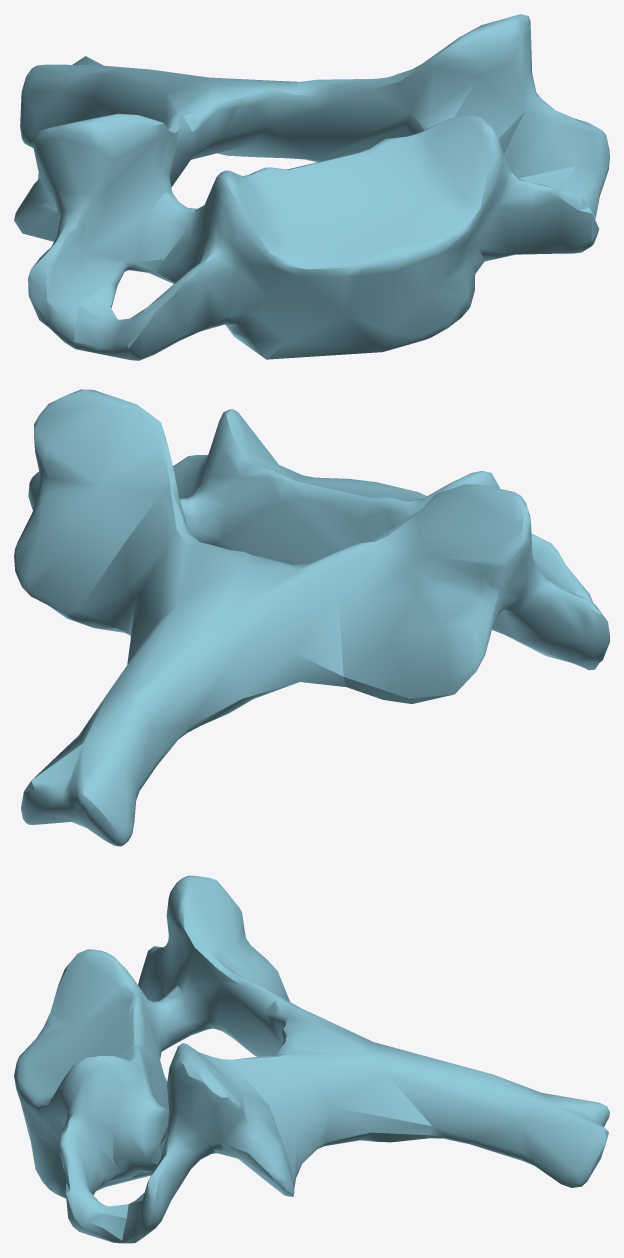
3 renders of one model, top to bottom at view 1: azimuth 30°, elevation 25°; view 2: azimuth 150°, elevation 25°; view 3: azimuth 270°, elevation 25°, orthographic. The views are drawn at different scales.
Parts seen in each view (by area): view 1: grp1; view 2: grp1; view 3: grp1.
Boxes of the visible parts, <box> form: grp1: <box>14,14,609,360</box>; grp1: <box>14,389,609,846</box>; grp1: <box>14,875,609,1243</box>.
Size of the model in its own units: 0.0612 by 0.0231 by 0.0625.
